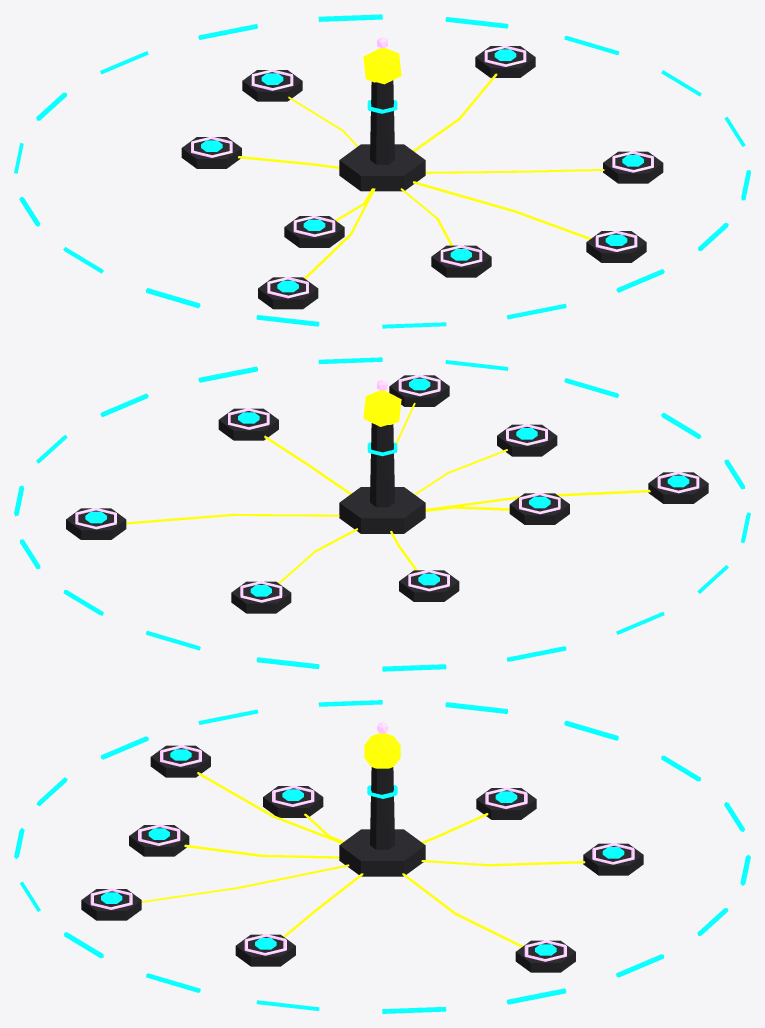
Rendered from EMPMineField.fbx.
3 renders of one model, top to bottom at view 1: azimuth 30°, elevation 25°; view 2: azimuth 150°, elevation 25°; view 3: azimuth 270°, elevation 25°, orthographic.
Visible parts, largest first — view 1: Field_Boundary, Field_NodeBase, Field_NodePost, Field_Mine2, Field_Mine4, Field_Mine5, Field_Mine7, Field_Mine6, Field_Mine1, Field_Mine0, Field_Mine3, Field_NodeDome (+1 smaller); view 2: Field_Boundary, Field_NodeBase, Field_NodePost, Field_Mine5, Field_Mine1, Field_Mine2, Field_Mine6, Field_Mine3, Field_Mine4, Field_Mine0, Field_Mine7, Field_NodeDome (+2 smaller); view 3: Field_Boundary, Field_NodeBase, Field_NodePost, Field_Mine0, Field_Mine1, Field_Mine4, Field_Mine5, Field_Mine7, Field_Mine3, Field_Mine2, Field_Mine6, Field_NodeDome (+1 smaller).
Boxes of the visible parts, bbox=[...] form: Field_Boundary: bbox=[14, 14, 750, 328]; Field_NodeBase: bbox=[339, 144, 425, 191]; Field_NodePost: bbox=[370, 80, 394, 164]; Field_Mine2: bbox=[431, 245, 491, 277]; Field_Mine4: bbox=[258, 277, 318, 309]; Field_Mine5: bbox=[603, 151, 663, 183]; Field_Mine7: bbox=[586, 231, 646, 262]; Field_Mine6: bbox=[284, 216, 344, 247]; Field_Mine1: bbox=[242, 70, 302, 101]; Field_Mine0: bbox=[475, 46, 535, 77]; Field_Mine3: bbox=[181, 137, 241, 168]; Field_NodeDome: bbox=[363, 47, 401, 84]; Field_Boundary: bbox=[14, 357, 750, 671]; Field_NodeBase: bbox=[339, 487, 425, 533]; Field_NodePost: bbox=[370, 423, 394, 507]; Field_Mine5: bbox=[218, 408, 278, 440]; Field_Mine1: bbox=[231, 581, 291, 613]; Field_Mine2: bbox=[497, 424, 557, 456]; Field_Mine6: bbox=[509, 493, 569, 524]; Field_Mine3: bbox=[399, 570, 459, 601]; Field_Mine4: bbox=[648, 472, 708, 503]; Field_Mine0: bbox=[66, 508, 126, 539]; Field_Mine7: bbox=[389, 375, 449, 406]; Field_NodeDome: bbox=[363, 390, 401, 426]; Field_Boundary: bbox=[14, 700, 750, 1013]; Field_NodeBase: bbox=[339, 829, 425, 876]; Field_NodePost: bbox=[370, 767, 394, 849]; Field_Mine0: bbox=[515, 940, 575, 972]; Field_Mine1: bbox=[583, 843, 643, 875]; Field_Mine4: bbox=[150, 745, 210, 777]; Field_Mine5: bbox=[235, 934, 295, 966]; Field_Mine7: bbox=[81, 889, 141, 920]; Field_Mine3: bbox=[476, 788, 536, 819]; Field_Mine2: bbox=[129, 825, 189, 856]; Field_Mine6: bbox=[263, 786, 323, 817]; Field_NodeDome: bbox=[364, 733, 400, 768].
Bounding box in the file's own units: 1.71 × 0.3575 × 1.71.
